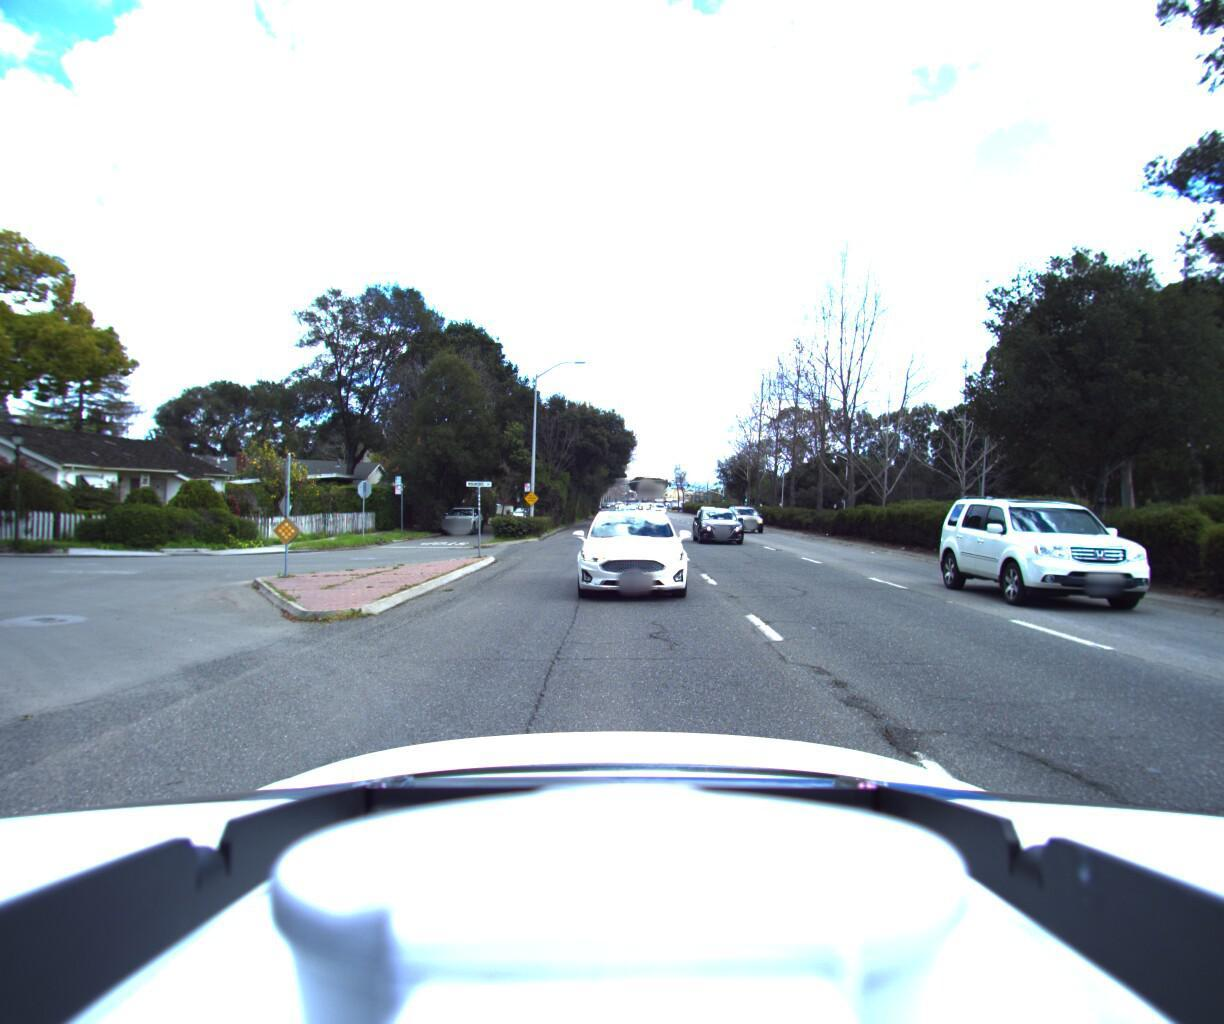car: (948, 487, 1224, 629), (562, 501, 705, 617), (693, 505, 754, 548), (725, 504, 772, 536), (441, 505, 487, 536), (614, 501, 641, 524), (648, 503, 668, 520)
